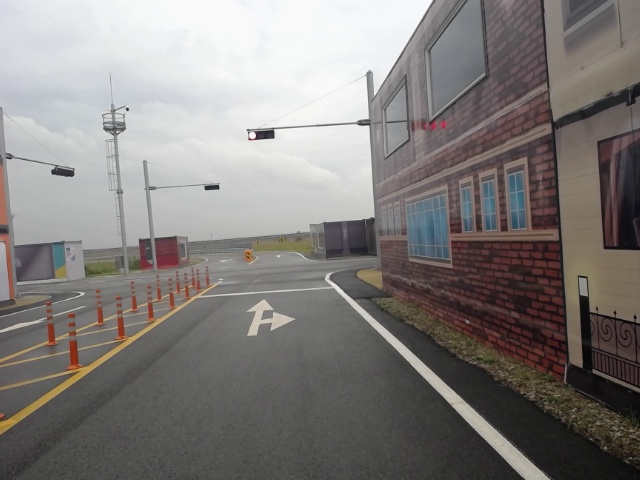red_3: (248, 130, 275, 141)
